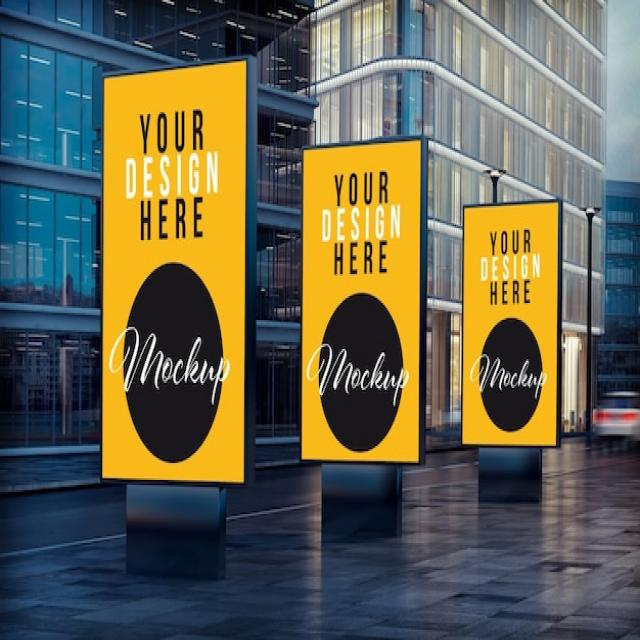Werbetafel frei: (97, 53, 254, 490), (298, 131, 428, 467), (458, 192, 563, 451)
